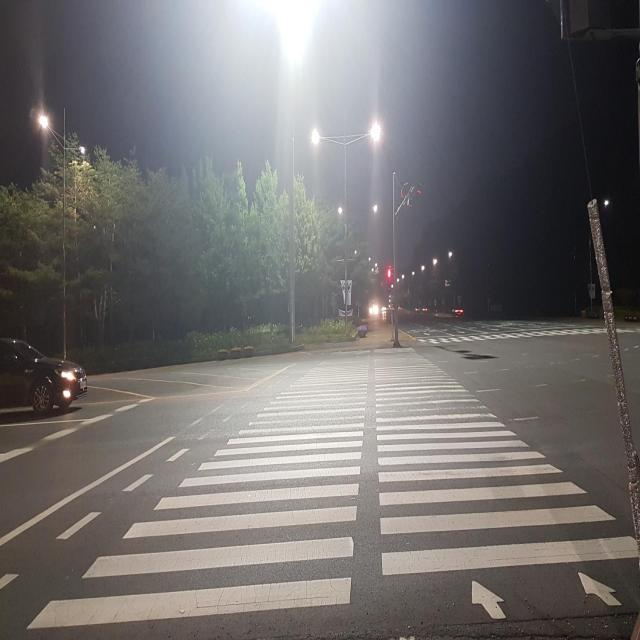횡단보도: (22, 342, 640, 635)
